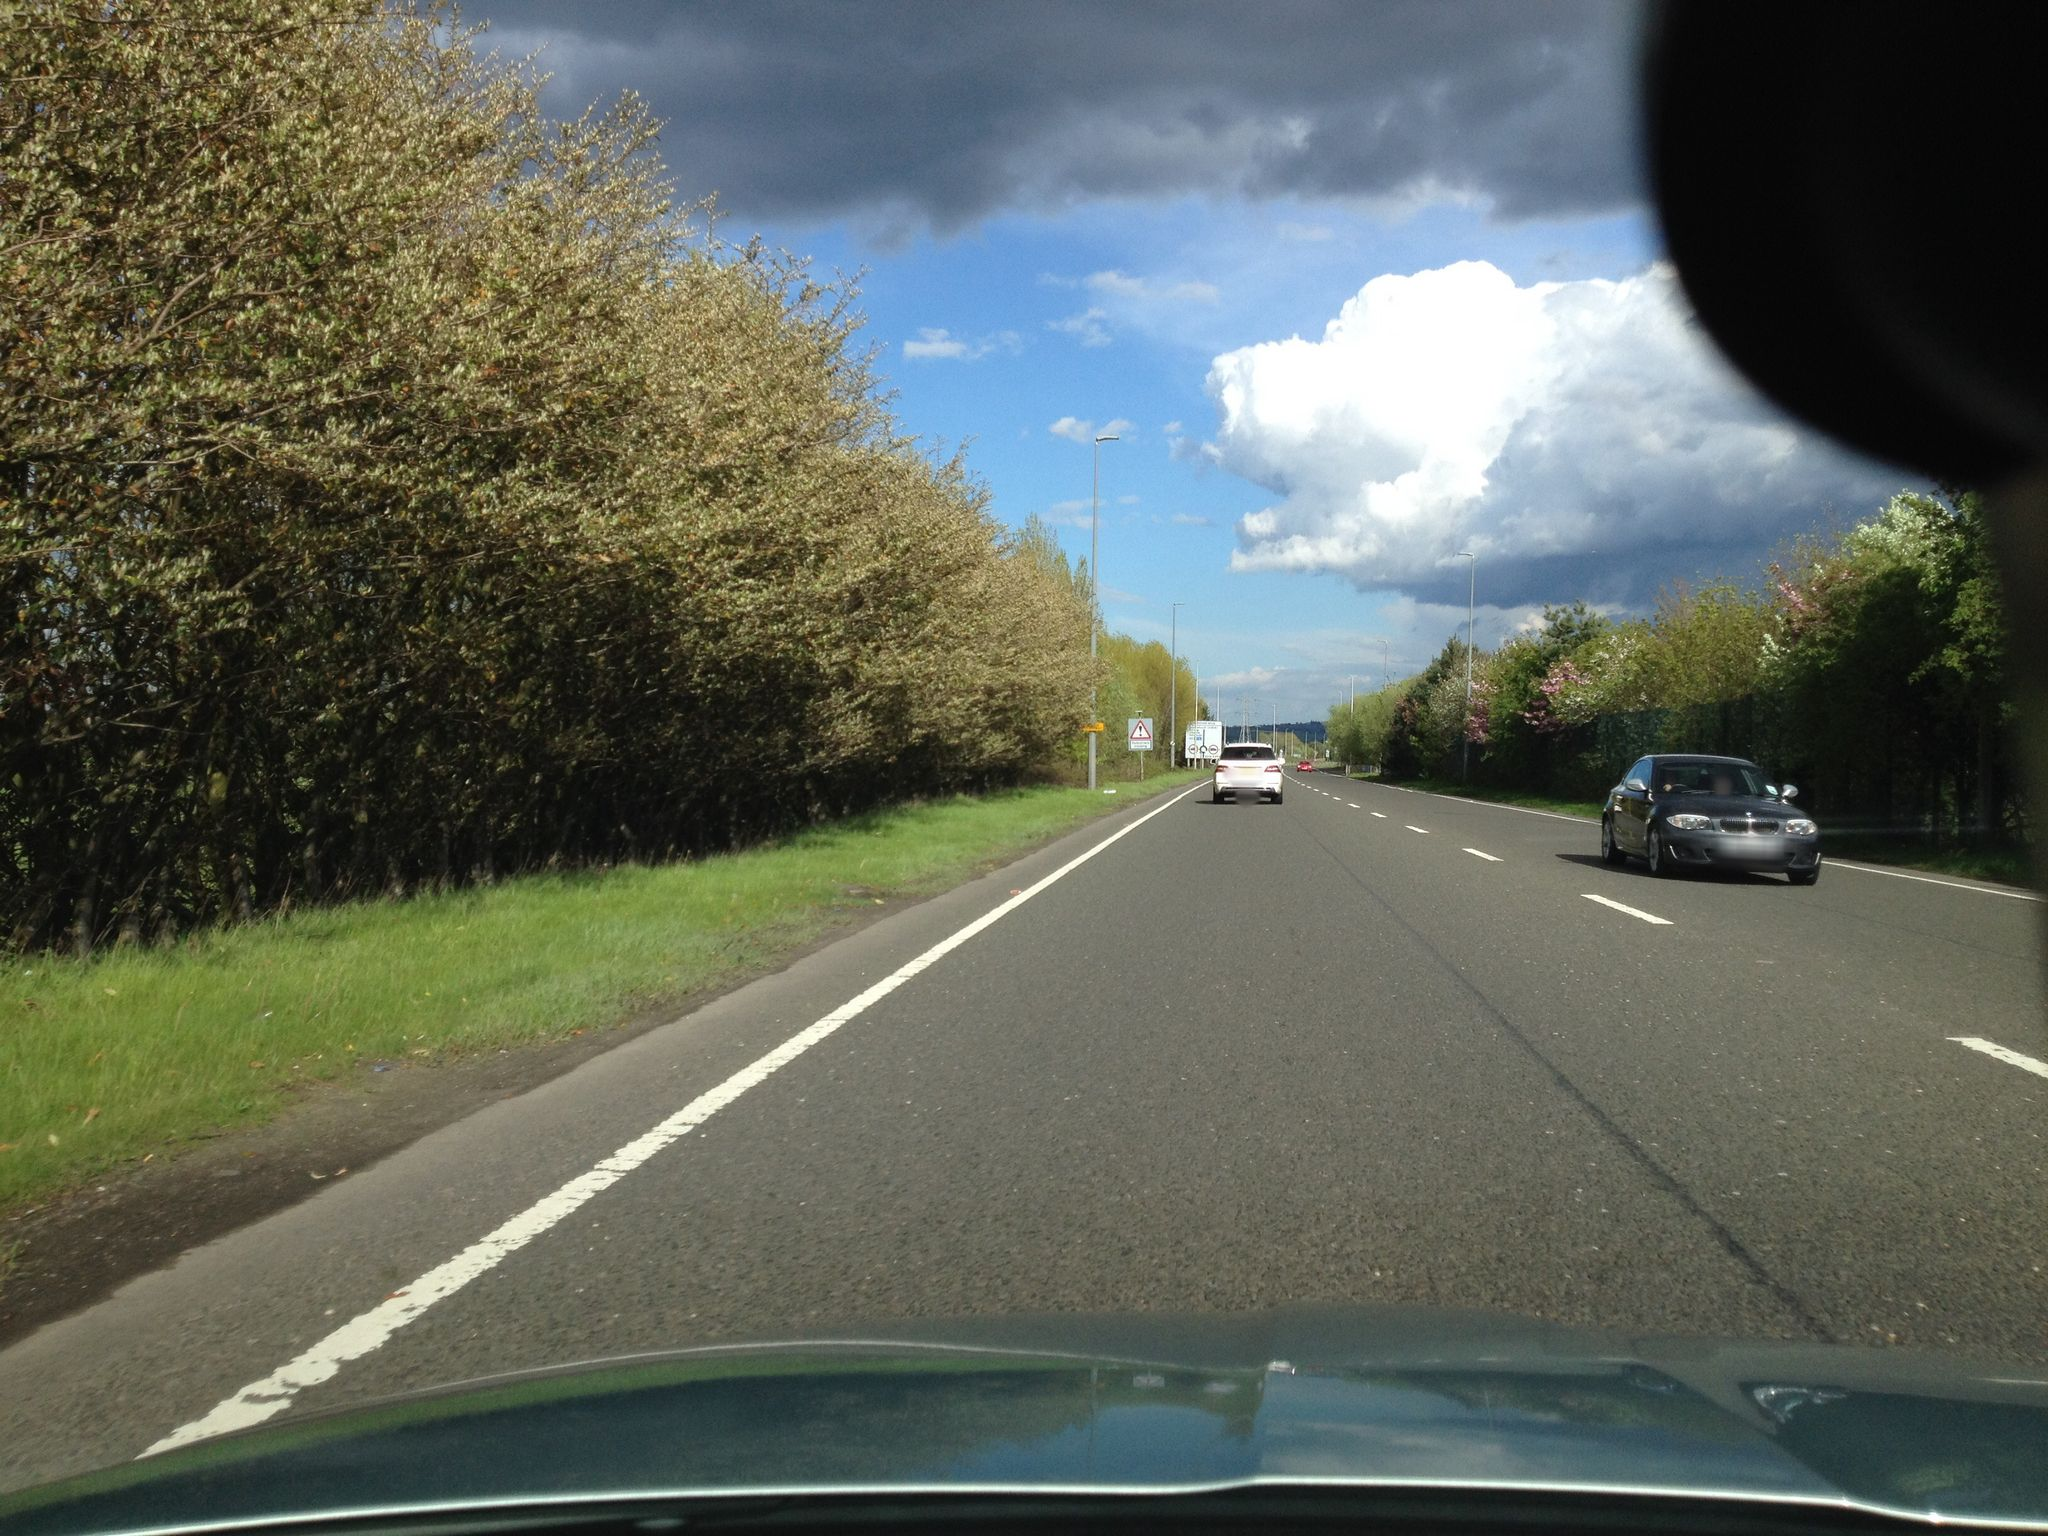car: (1600, 752, 1822, 884), (1209, 741, 1285, 803)
